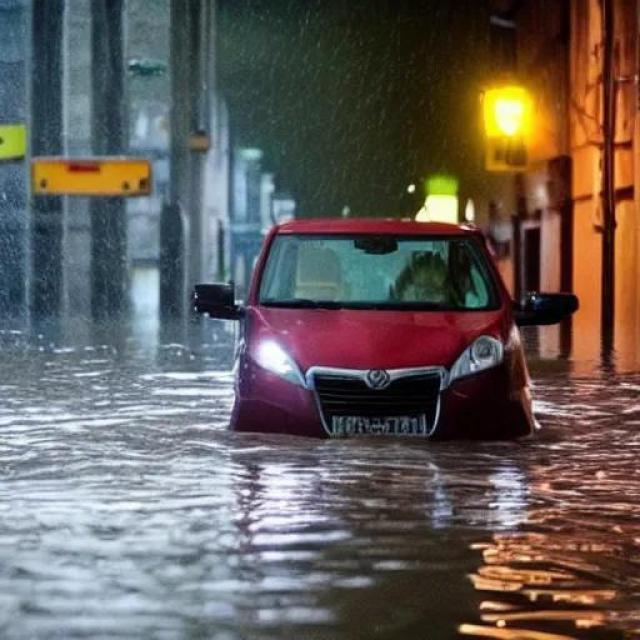water: (2, 316, 639, 638)
